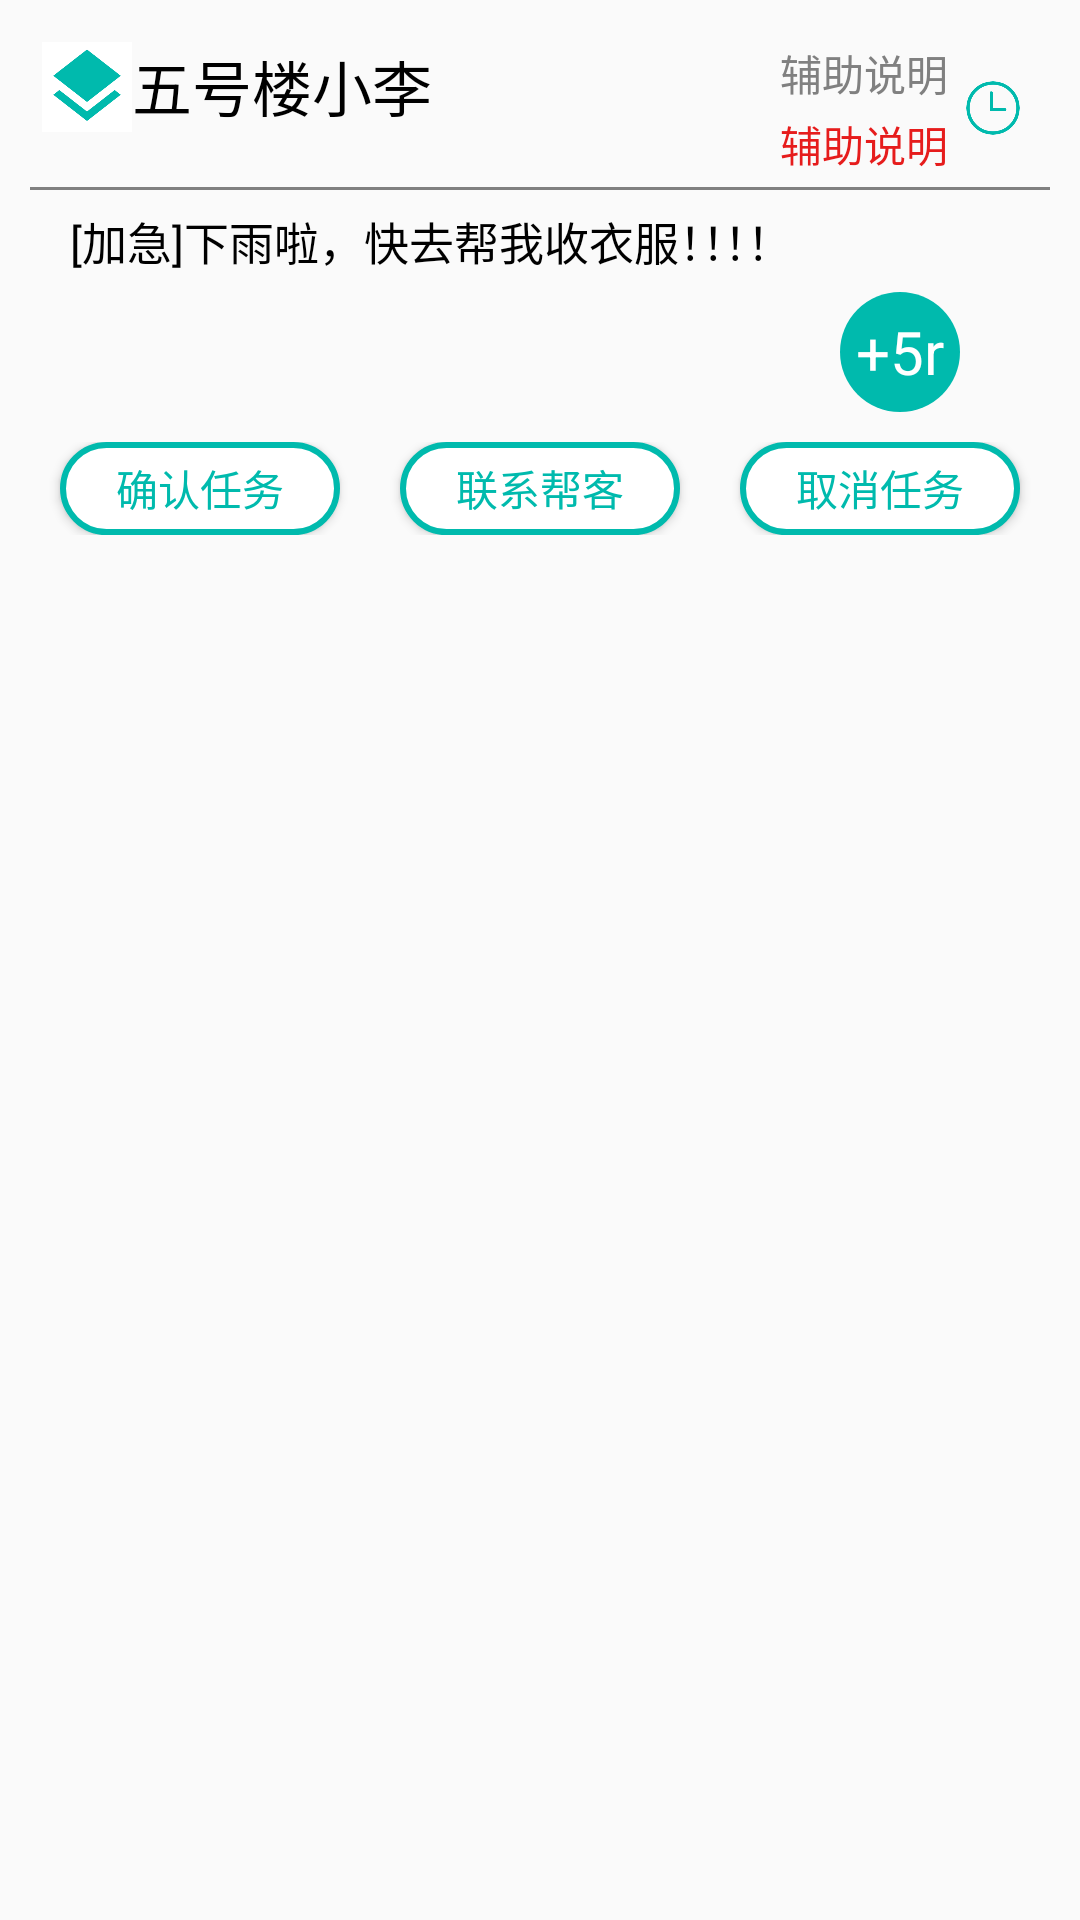

Named icons in this screenshot (1080×1920) and their centers, point (x, y):
clock: point (993, 108)
